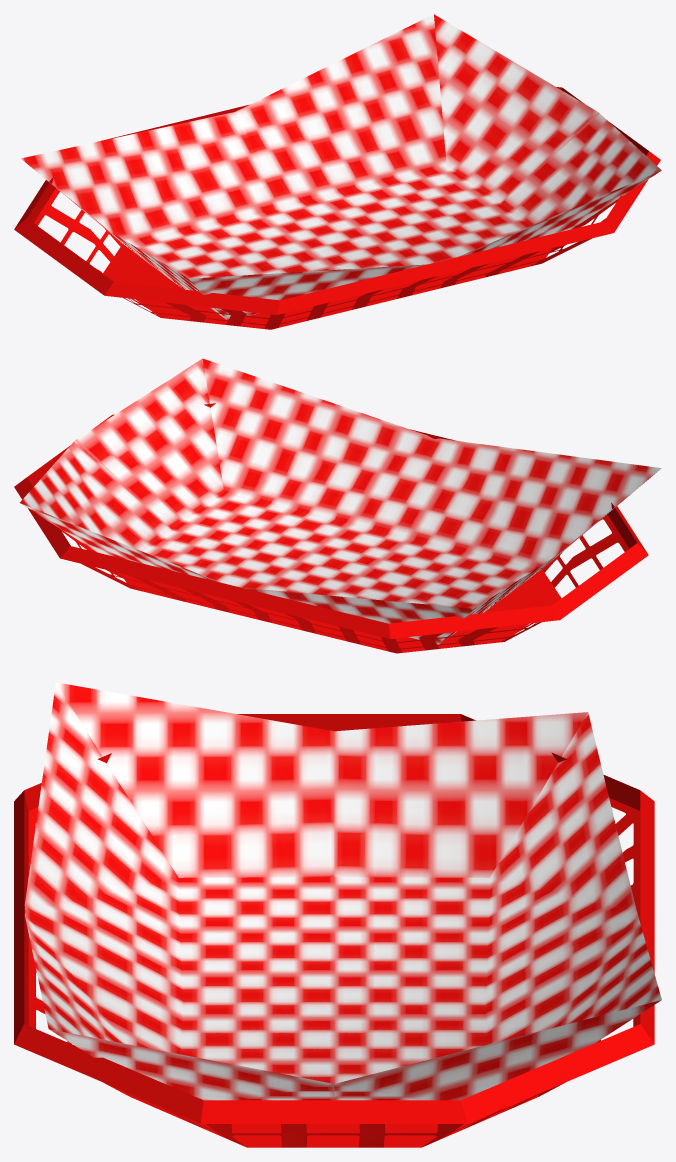
File: Tray_01.dae
The picture shows the model from 3 angles, top to bottom: view 1: azimuth 30°, elevation 25°; view 2: azimuth 150°, elevation 25°; view 3: azimuth 270°, elevation 25°; orthographic projection. The views are drawn at different scales.
Parts seen in each view (by area): view 1: Paper_C, Tray_01; view 2: Paper_C, Tray_01; view 3: Paper_C, Tray_01.
Boxes of the visible parts, x1,y1,x2,y2 form: Paper_C: (21, 14, 661, 320); Tray_01: (14, 87, 660, 329); Paper_C: (20, 358, 661, 644); Tray_01: (14, 403, 648, 653); Paper_C: (24, 682, 661, 1100); Tray_01: (14, 714, 654, 1147).
Size of the model in its own units: 0.3983 by 0.2715 by 0.0686.
Materials: 1 (1 with a texture image).
